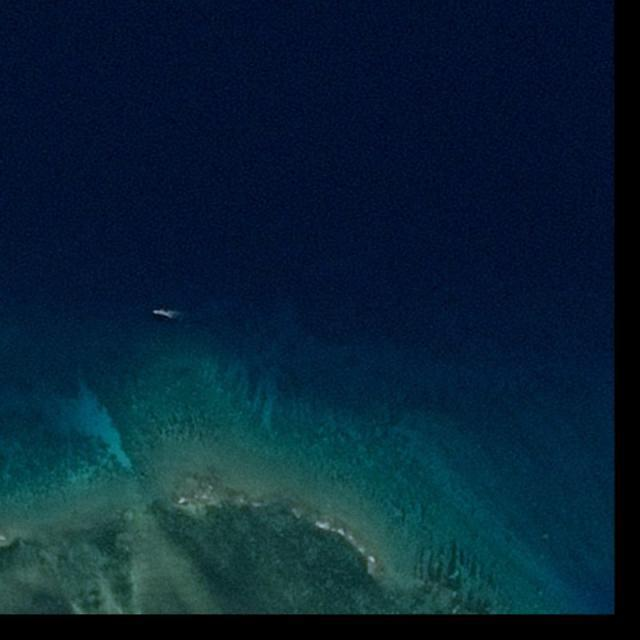ship: (151, 310, 168, 316)
